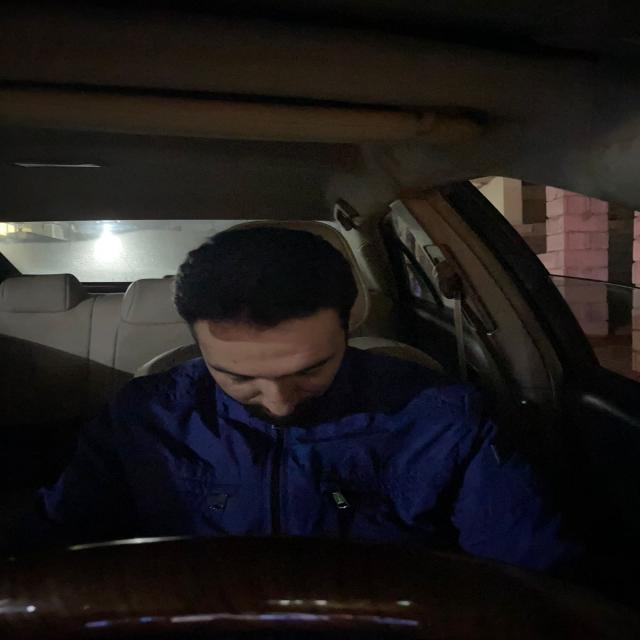drowsy: (170, 215, 372, 434)
